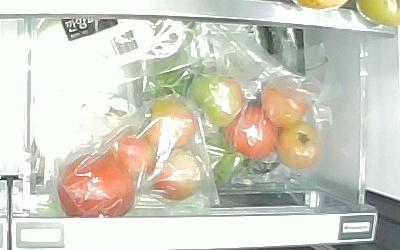tomato_vinyl: (56, 153, 134, 218), (185, 72, 245, 129), (226, 104, 281, 158), (141, 100, 198, 150), (154, 150, 202, 200), (261, 82, 308, 128), (278, 122, 322, 170), (115, 136, 156, 177)
